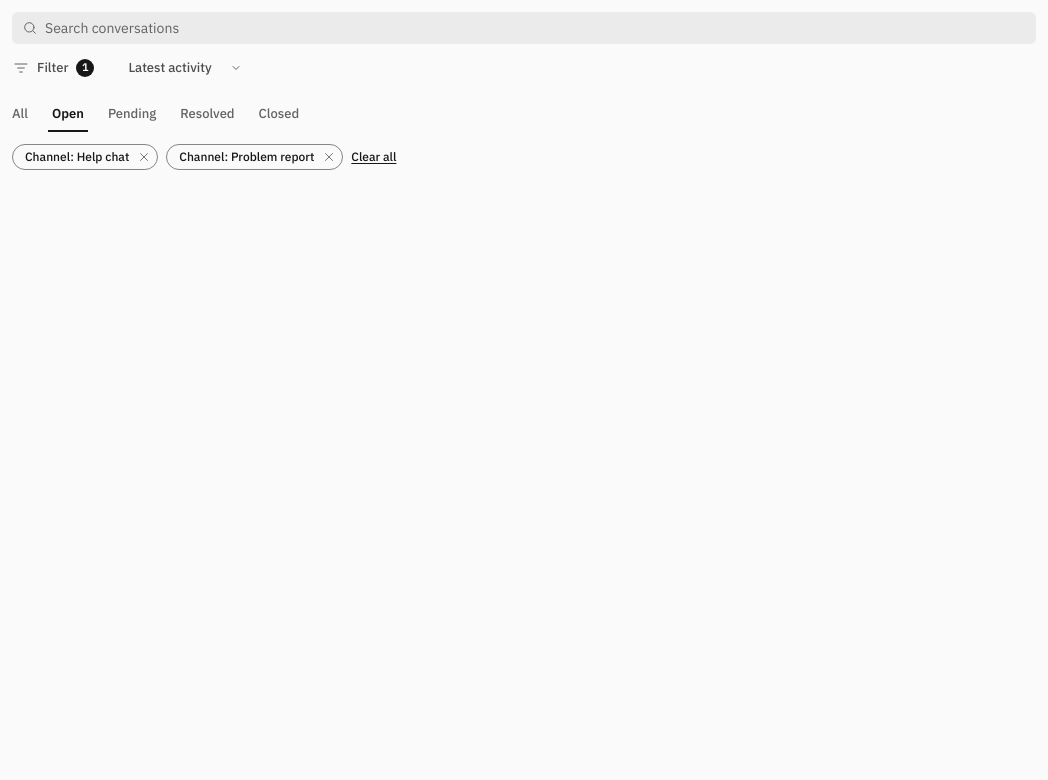
Test: Channel lists a channel type only once the workspace has one, never Problem report, and keeps a value already chosen
Click the text "Filter": (53, 68) left=37, top=59, right=68, bottom=77
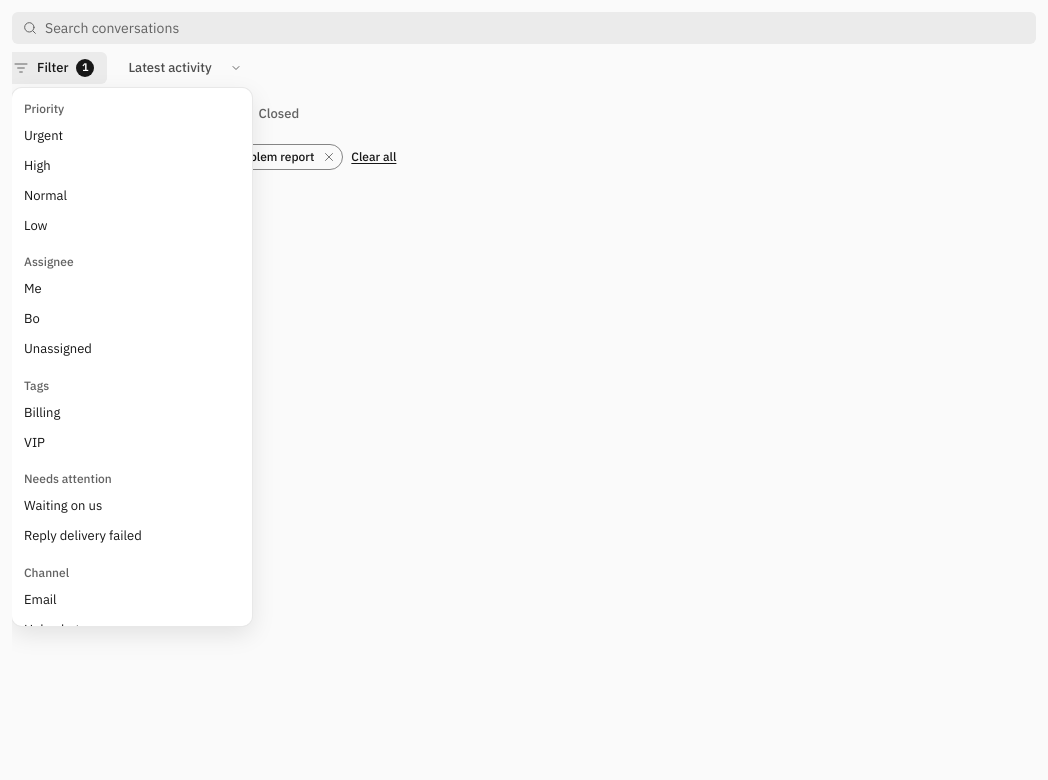
Now the checkbox labelled "Urgent" is shown, box left=24, top=127, right=63, bottom=144
